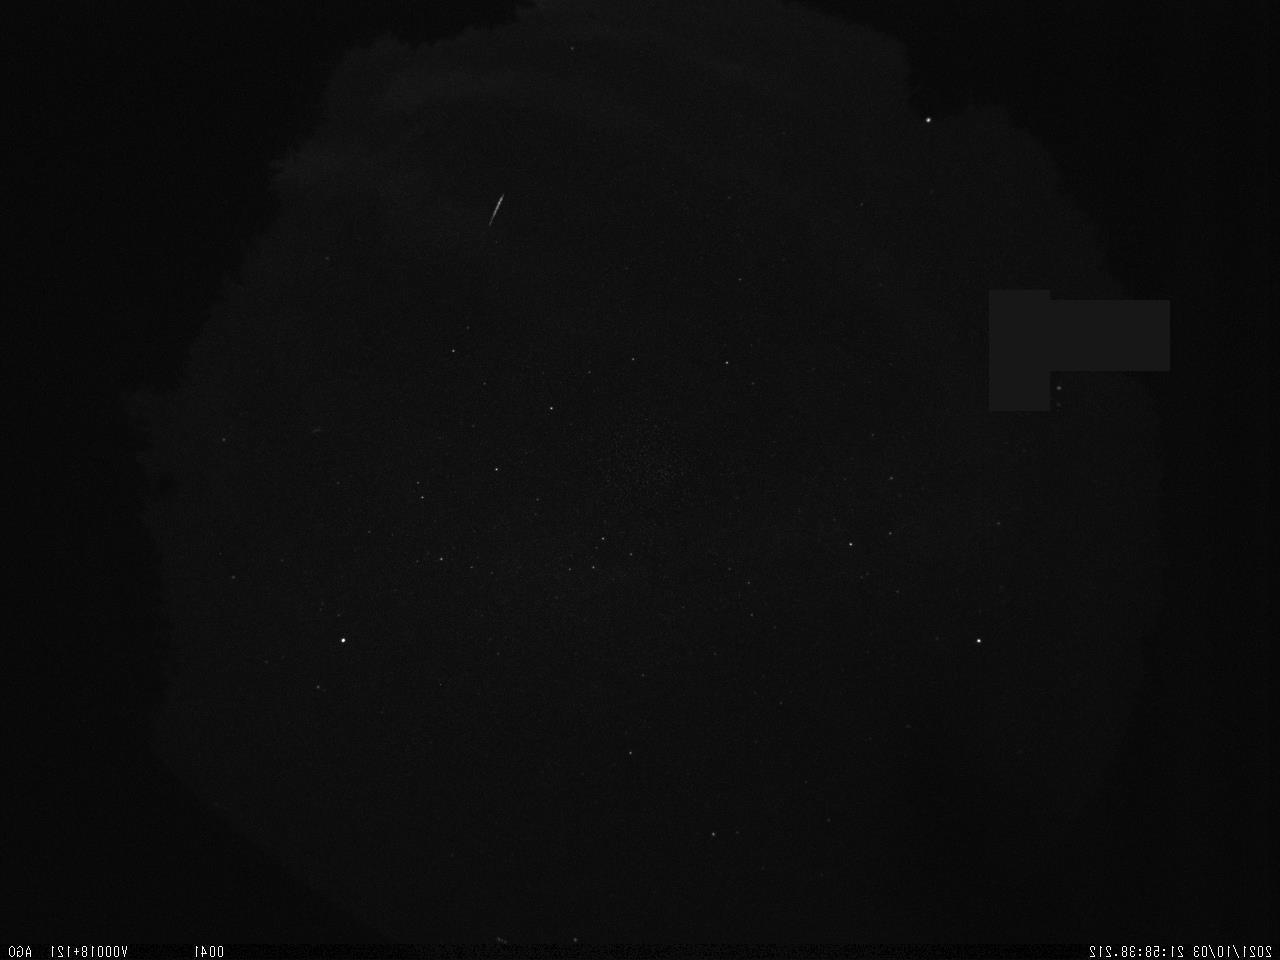meteor: (486, 193, 505, 229)
